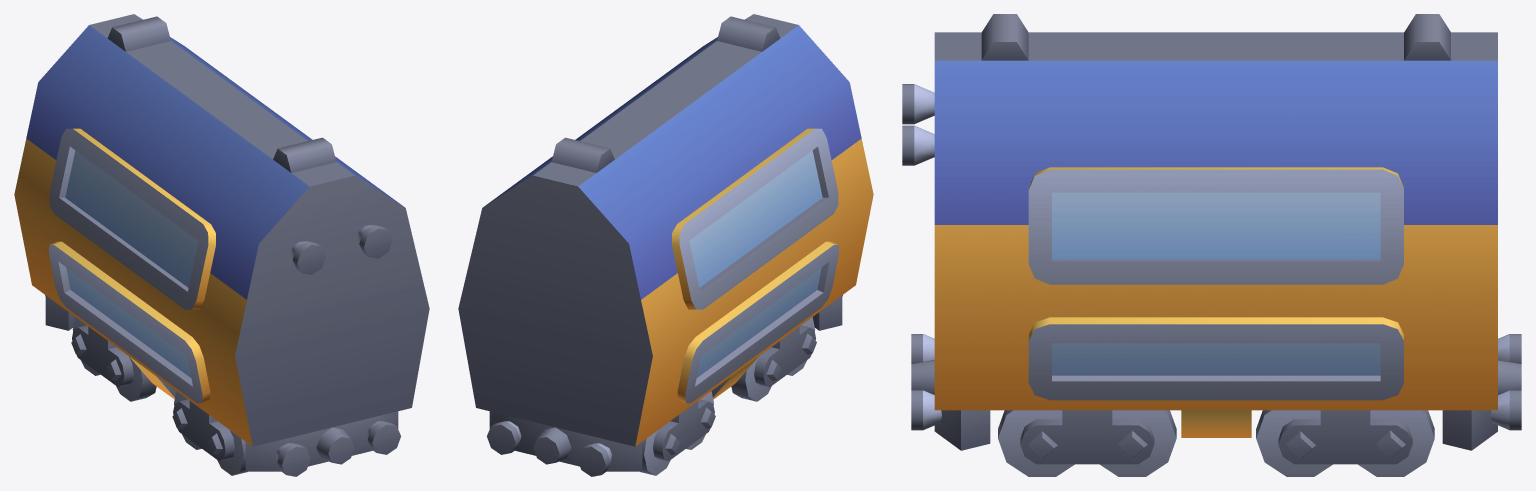
The model's file is train-electric-double-c.glb.
The picture shows the model from 3 angles, left to right: view 1: azimuth 30°, elevation 25°; view 2: azimuth 150°, elevation 25°; view 3: azimuth 270°, elevation 25°; orthographic projection. The views are drawn at different scales.
Parts seen in each view (by area): view 1: train-electric-double-c; view 2: train-electric-double-c; view 3: train-electric-double-c.
Boxes of the visible parts, bbox=[...] form: train-electric-double-c: bbox=[14, 14, 429, 476]; train-electric-double-c: bbox=[458, 14, 873, 476]; train-electric-double-c: bbox=[902, 14, 1521, 476].
Bounding box in the file's own units: 1.29 × 1.92 × 2.64.
1 material, 1 textured.
